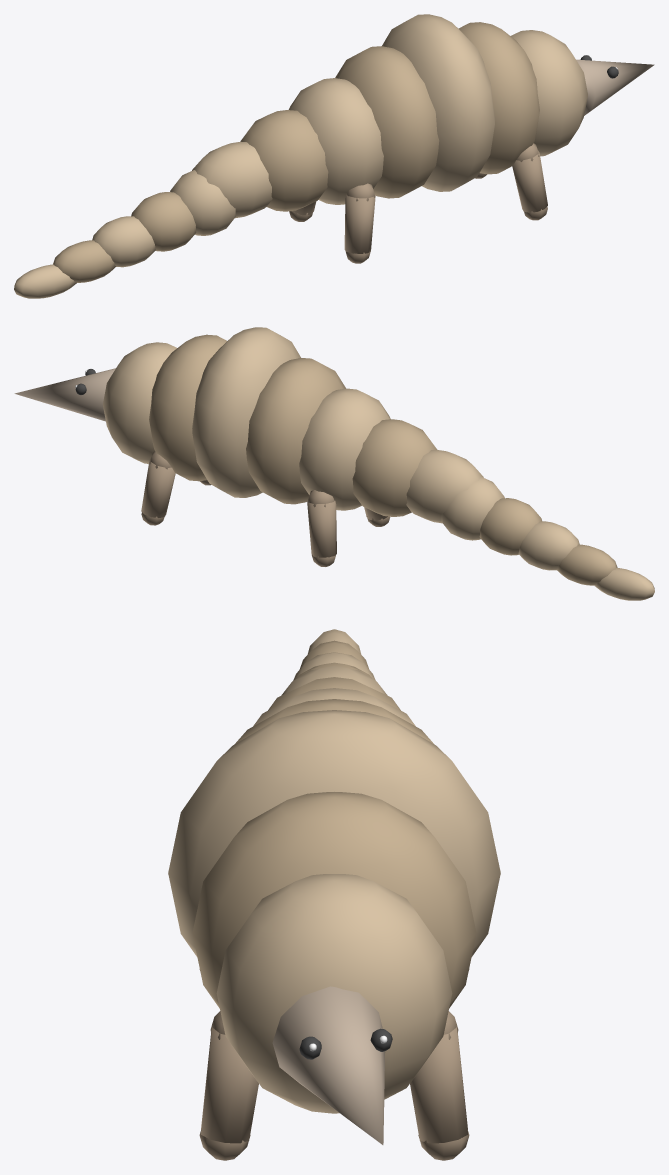
File: chinese-pangolin.glb
3 renders of one model, top to bottom at view 1: azimuth 30°, elevation 25°; view 2: azimuth 150°, elevation 25°; view 3: azimuth 270°, elevation 25°, orthographic. The views are drawn at different scales.
Visible parts, largest first — view 1: e, e.007, cone; view 2: e, e.007, cone; view 3: e, cone, e.007.
Part boxes in pixels (x1,y1,x2,y2): e: [192, 14, 587, 263]; e.007: [14, 170, 235, 298]; cone: [576, 55, 654, 115]; e: [103, 327, 483, 566]; e.007: [441, 477, 654, 600]; cone: [14, 368, 115, 421]; e: [168, 666, 500, 1160]; cone: [272, 986, 392, 1144]; e.007: [293, 629, 375, 680].
Size of the model in its own units: 1.99 by 0.569 by 0.456.
